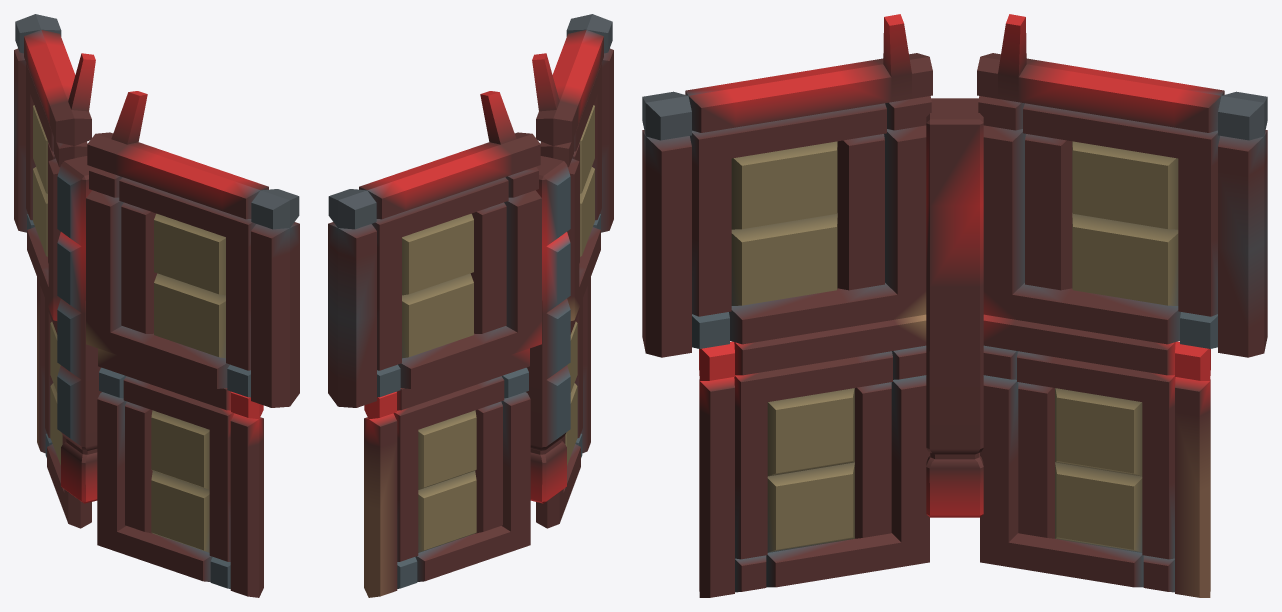
File: ENV_Relic_01_Butterfly_02.fbx
The picture shows the model from 3 angles, left to right: view 1: azimuth 30°, elevation 25°; view 2: azimuth 150°, elevation 25°; view 3: azimuth 270°, elevation 25°; orthographic projection. The views are drawn at different scales.
Parts seen in each view (by area): view 1: ENV_Relic_01_Butterfly_02_WingLeft, ENV_Relic_01_Butterfly_02_WingRight, ENV_Relic_01_Butterfly_02_Core; view 2: ENV_Relic_01_Butterfly_02_WingRight, ENV_Relic_01_Butterfly_02_WingLeft, ENV_Relic_01_Butterfly_02_Core; view 3: ENV_Relic_01_Butterfly_02_WingLeft, ENV_Relic_01_Butterfly_02_WingRight, ENV_Relic_01_Butterfly_02_Core.
Boxes of the visible parts, x1=… form: ENV_Relic_01_Butterfly_02_WingLeft: x1=86, y1=91, x2=299, y2=597; ENV_Relic_01_Butterfly_02_WingRight: x1=14, y1=14, x2=95, y2=528; ENV_Relic_01_Butterfly_02_Core: x1=57, y1=156, x2=101, y2=503; ENV_Relic_01_Butterfly_02_WingRight: x1=328, y1=91, x2=541, y2=597; ENV_Relic_01_Butterfly_02_WingLeft: x1=532, y1=14, x2=613, y2=528; ENV_Relic_01_Butterfly_02_Core: x1=526, y1=156, x2=570, y2=503; ENV_Relic_01_Butterfly_02_WingLeft: x1=642, y1=14, x2=932, y2=597; ENV_Relic_01_Butterfly_02_WingRight: x1=977, y1=14, x2=1267, y2=597; ENV_Relic_01_Butterfly_02_Core: x1=926, y1=98, x2=983, y2=517.
Bounding box in the file's own units: 136 × 516 × 527.
